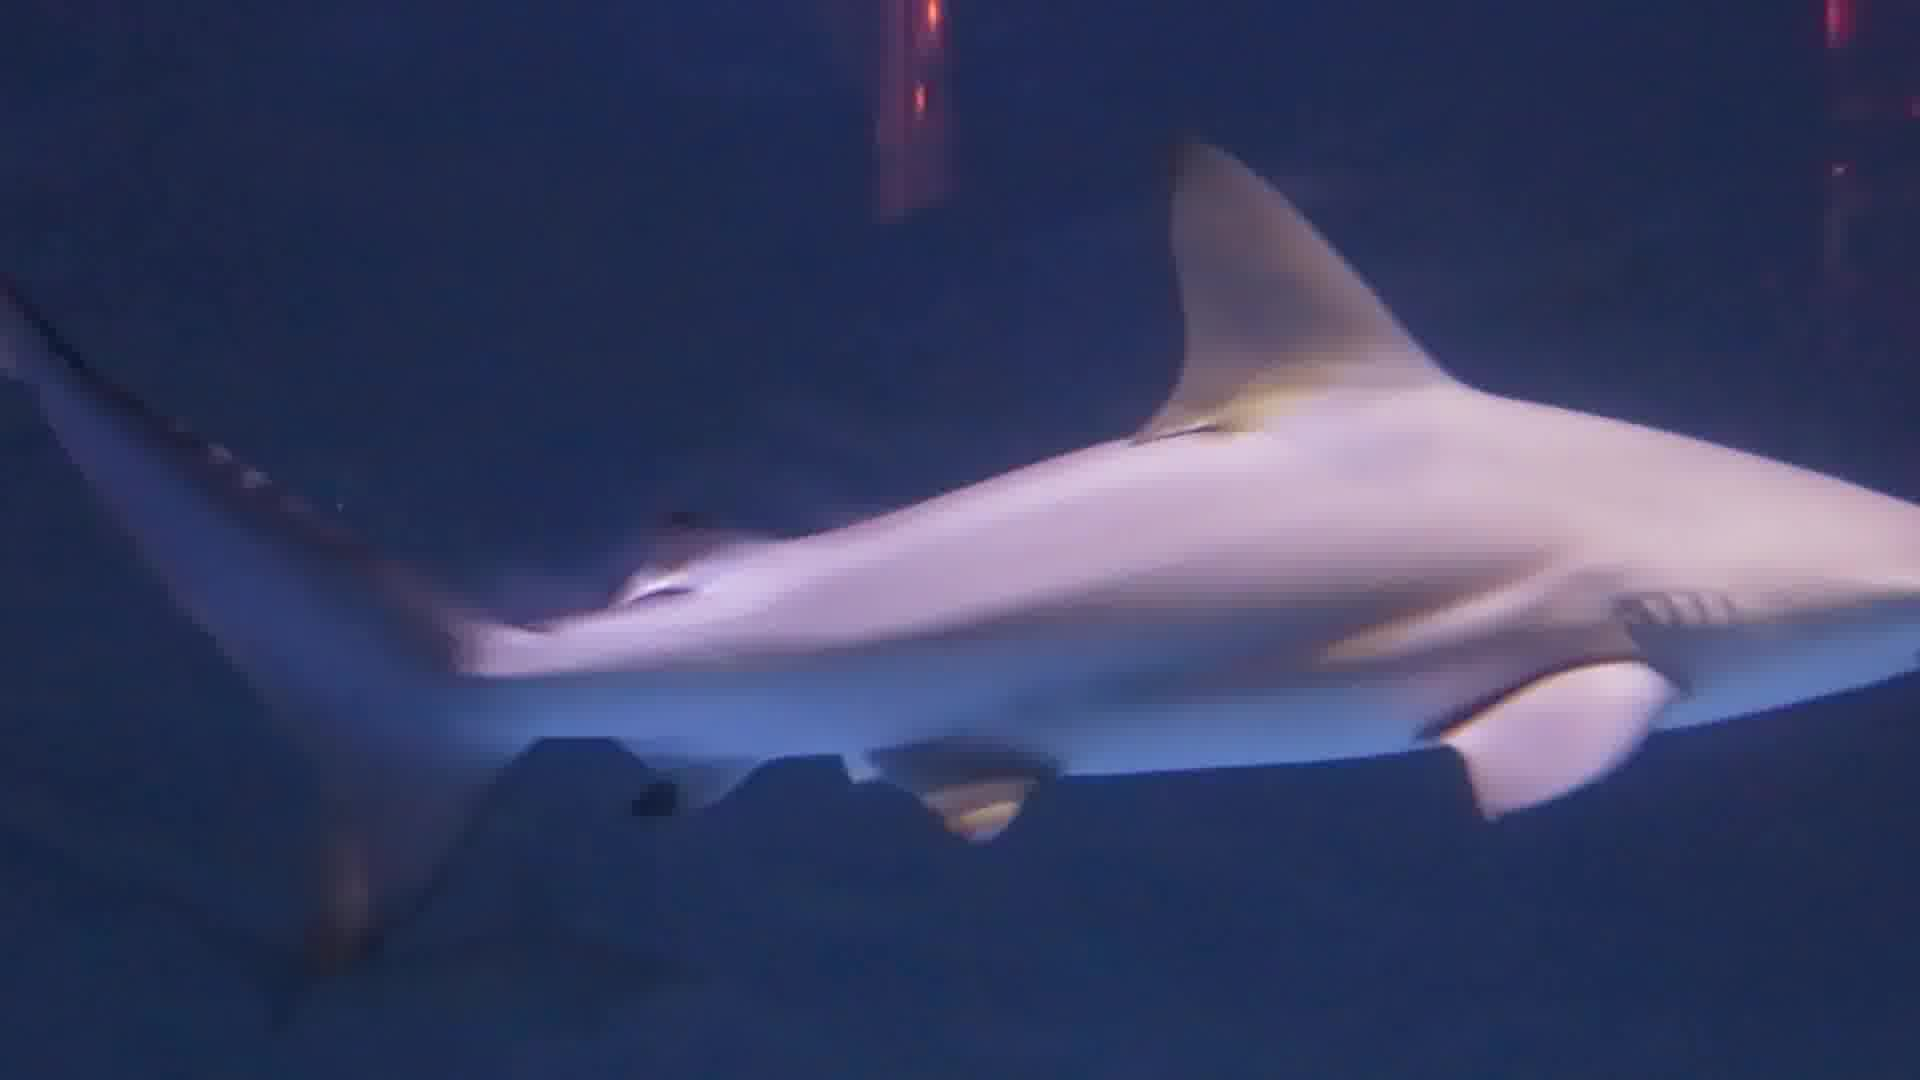Carcharhinus leucas: (69, 123, 1920, 931)
